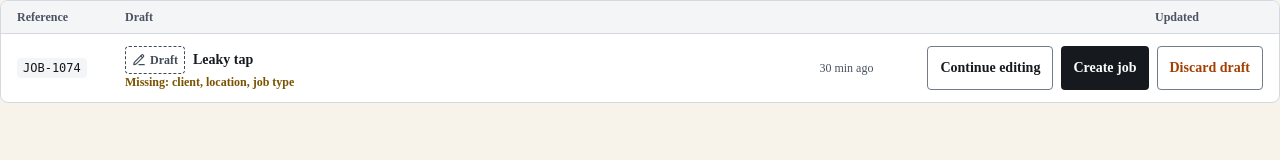
Test case: Drafts list (4718e5f9) › a draft that is not ready says what is missing, with a way to continue editing
Step 1. Click the button with aria-label "Create job from JOB-1074" → (1105, 68), box [1061,46,1148,90]
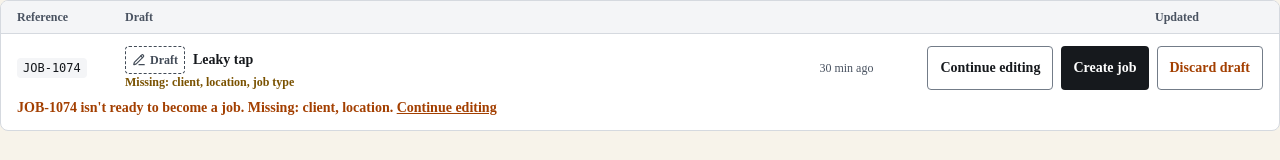
Now the message shows "JOB-1074 isn't ready to become a job. Missing: client, location.", box [17,100,393,115]
